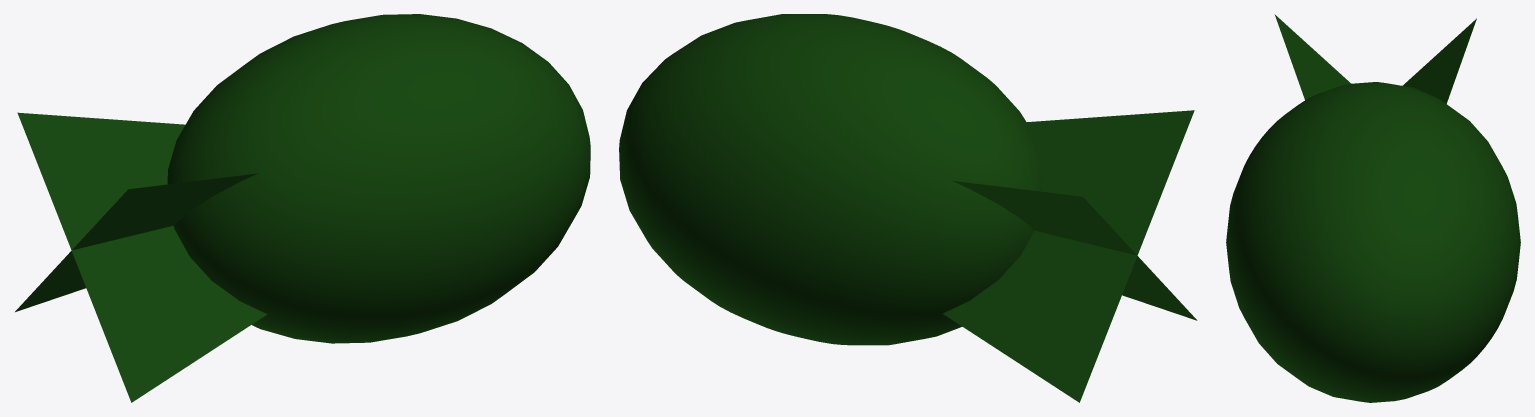
File: bomb.fbx
The picture shows the model from 3 angles, left to right: view 1: azimuth 30°, elevation 25°; view 2: azimuth 150°, elevation 25°; view 3: azimuth 270°, elevation 25°; orthographic projection. The views are drawn at different scales.
Parts seen in each view (by area): view 1: Sphere; view 2: Sphere; view 3: Sphere.
Part boxes in pixels (x1,y1,x2,y2): Sphere: (15, 14, 590, 402); Sphere: (619, 14, 1197, 402); Sphere: (1226, 14, 1520, 402).
Bounding box in the file's own units: 359 × 200 × 200.
